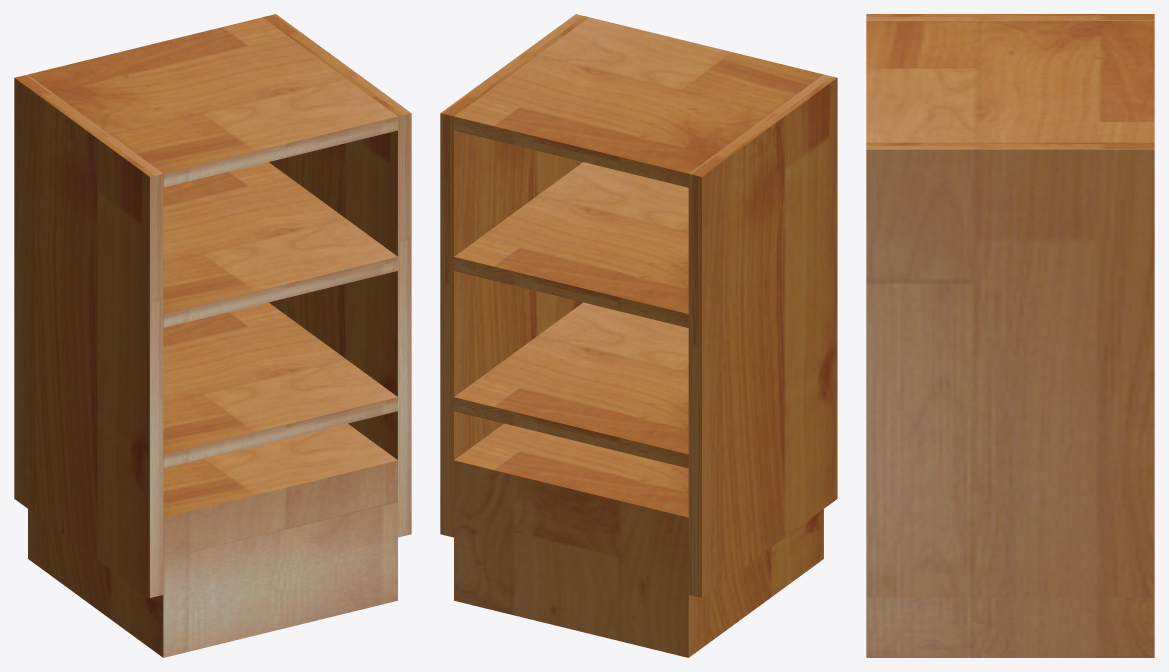
3 renders of one model, left to right at view 1: azimuth 30°, elevation 25°; view 2: azimuth 150°, elevation 25°; view 3: azimuth 270°, elevation 25°, orthographic. The views are drawn at different scales.
Visible parts, largest first — view 1: lateral2, mesita, basal3, lateral1, basal2, basal1; view 2: lateral2, mesita, basal3, lateral1, basal2, basal1; view 3: lateral1, basal3, mesita, lateral2.
Boxes of the visible parts, left/top/right/bottom form: lateral2: left=14, top=74, right=163, bottom=597; mesita: left=28, top=423, right=397, bottom=657; basal3: left=28, top=17, right=397, bottom=187; lateral1: left=263, top=14, right=411, bottom=537; basal2: left=163, top=162, right=397, bottom=327; basal1: left=163, top=302, right=397, bottom=468; lateral2: left=688, top=74, right=837, bottom=597; mesita: left=454, top=423, right=823, bottom=657; basal3: left=454, top=17, right=823, bottom=187; lateral1: left=440, top=14, right=588, bottom=537; basal2: left=454, top=162, right=688, bottom=327; basal1: left=454, top=302, right=688, bottom=468; lateral1: left=866, top=142, right=1154, bottom=597; basal3: left=866, top=21, right=1154, bottom=142; mesita: left=866, top=597, right=1154, bottom=657; lateral2: left=866, top=14, right=1154, bottom=20.
Size of the model in its own units: 0.39 by 0.35 by 0.69.
Materials: 1 (1 with a texture image).
